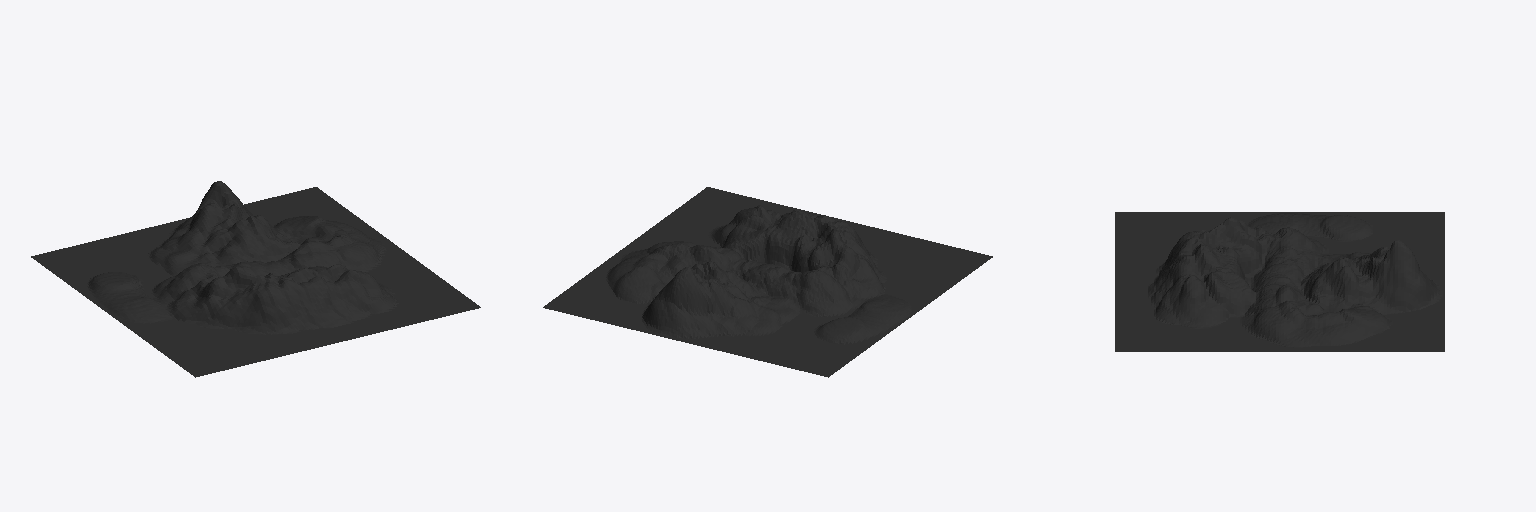
The model's file is New_Testing_Landscape.obj.
3 renders of one model, left to right at view 1: azimuth 30°, elevation 25°; view 2: azimuth 150°, elevation 25°; view 3: azimuth 270°, elevation 25°, orthographic.
Parts seen in each view (by area): view 1: Landscape_1; view 2: Landscape_1; view 3: Landscape_1.
Part boxes in pixels (x1,y1,x2,y2): Landscape_1: (31,181,480,377); Landscape_1: (543,187,992,377); Landscape_1: (1115,212,1444,351).
Bounding box in the file's own units: 119 × 20.79 × 119.